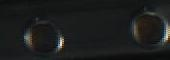joints: (129, 8, 169, 50), (23, 17, 64, 56)
